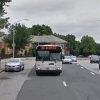Bus: (31, 42, 65, 80)
